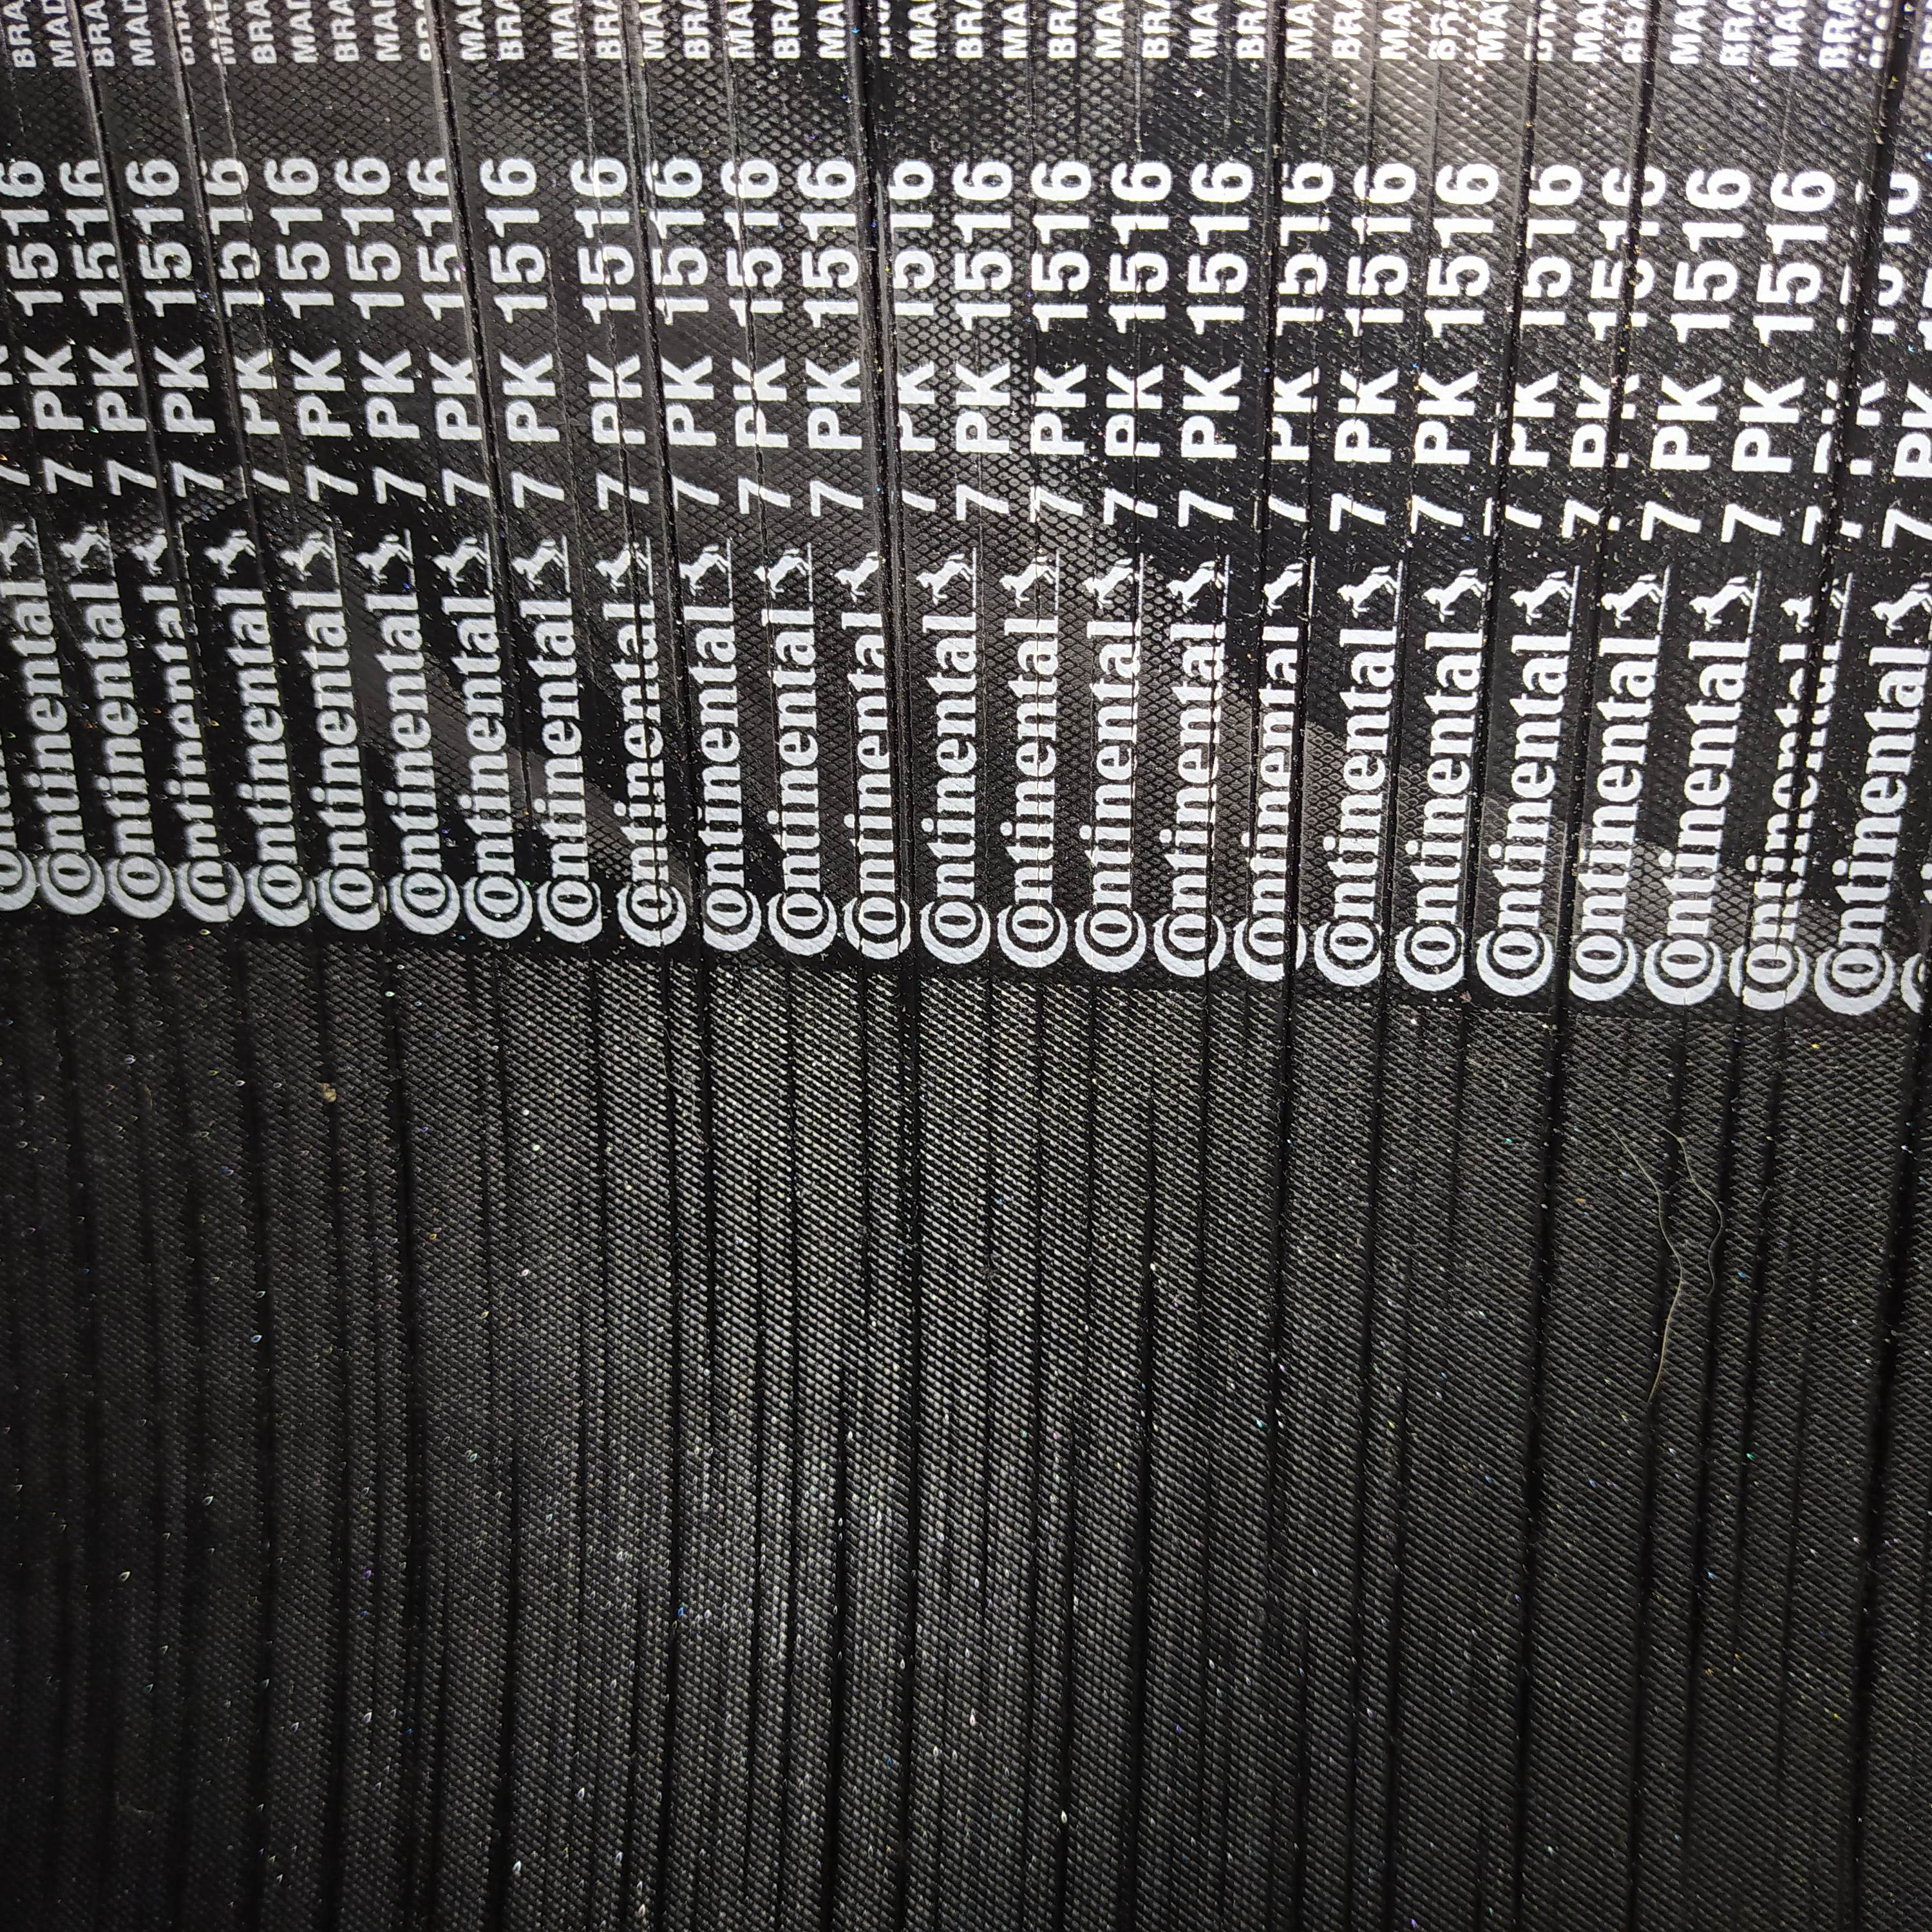friso grande: (1113, 1260, 1162, 1928), (1044, 1566, 1090, 1927), (1499, 1587, 1545, 1927), (886, 1541, 924, 1930), (1828, 1638, 1875, 1930), (810, 1599, 849, 1928), (1506, 1338, 1553, 1594), (1191, 985, 1221, 1385), (487, 1598, 524, 1920), (398, 1343, 435, 1658), (421, 2, 474, 212), (1435, 1030, 1476, 1293), (1366, 1665, 1405, 1927), (1260, 1054, 1299, 1311), (386, 1132, 430, 1357), (840, 7, 897, 179), (649, 1683, 688, 1923), (1520, 1039, 1582, 1189), (373, 938, 419, 1136), (1008, 1640, 1040, 1925), (1256, 1307, 1286, 1608), (156, 1727, 202, 1916), (973, 1408, 1000, 1736), (318, 1637, 349, 1920), (62, 1228, 111, 1398), (1631, 1332, 1675, 1522), (170, 1534, 212, 1729), (1670, 1683, 1709, 1893), (1854, 1346, 1907, 1497), (897, 1297, 929, 1546), (1343, 1384, 1387, 1562), (1072, 1085, 1100, 1361), (1621, 1686, 1652, 1930), (1617, 1511, 1660, 1693), (253, 1233, 280, 1522), (846, 182, 902, 310), (1272, 858, 1307, 1062), (324, 1440, 359, 1644), (1516, 1182, 1562, 1338), (610, 1727, 646, 1927), (460, 359, 517, 483), (1720, 1476, 1760, 1647), (1058, 1371, 1093, 1566), (423, 1658, 449, 1916), (455, 916, 492, 1100), (763, 1732, 798, 1925), (205, 280, 253, 421), (893, 1095, 927, 1295), (660, 1276, 694, 1476), (478, 1162, 502, 1433), (1338, 1564, 1373, 1752), (446, 223, 495, 356), (1537, 893, 1580, 1047), (1384, 1479, 1419, 1663), (64, 975, 88, 1237), (924, 1683, 950, 1925), (1346, 1224, 1387, 1382), (1451, 851, 1486, 1031), (485, 961, 515, 1171), (156, 7, 202, 142), (1674, 1530, 1713, 1684), (695, 1062, 729, 1238), (777, 1387, 809, 1573), (978, 1157, 1001, 1414), (329, 1223, 356, 1444), (180, 1407, 225, 1539), (1016, 1463, 1047, 1645), (1773, 759, 1803, 950), (131, 350, 179, 471), (1385, 1329, 1422, 1483), (244, 1690, 288, 1819), (1865, 1230, 1911, 1353), (182, 1251, 219, 1403), (665, 1476, 692, 1688), (1730, 1325, 1767, 1476), (1132, 1079, 1162, 1265), (828, 1415, 858, 1599), (1260, 7, 1283, 246), (701, 1235, 722, 1493), (1683, 1398, 1721, 1536), (1884, 1108, 1927, 1233), (1882, 2, 1927, 122), (658, 1123, 692, 1281), (580, 998, 617, 1139), (1198, 757, 1221, 985), (1854, 1497, 1890, 1644), (205, 11, 241, 156), (317, 1019, 341, 1226), (853, 1030, 881, 1210), (977, 957, 1001, 1162), (646, 853, 678, 1012), (584, 1136, 621, 1272), (1371, 847, 1405, 998), (895, 950, 929, 1100), (1741, 1182, 1775, 1329), (1553, 764, 1591, 897), (106, 225, 147, 345), (856, 306, 897, 425), (186, 147, 223, 276), (745, 1304, 771, 1484), (1640, 1214, 1679, 1336), (610, 16, 651, 133), (1693, 1184, 1736, 1295), (232, 426, 267, 559), (249, 1573, 290, 1688), (1024, 1269, 1047, 1465), (1355, 1109, 1392, 1230), (1361, 993, 1398, 1113), (732, 1764, 759, 1930), (1026, 1086, 1049, 1276), (235, 1813, 272, 1930), (1753, 1076, 1792, 1185), (69, 9, 110, 113), (734, 295, 768, 421), (232, 1007, 267, 1125), (177, 1143, 212, 1260), (628, 1564, 653, 1730), (499, 1444, 524, 1608), (594, 1269, 614, 1477), (310, 879, 338, 1023), (621, 540, 648, 692), (692, 909, 717, 1069), (1868, 124, 1904, 235), (1658, 1104, 1691, 1221), (248, 1490, 290, 1582), (1709, 1070, 1741, 1192), (150, 476, 186, 586), (1336, 1750, 1357, 1930), (777, 1575, 800, 1741), (786, 1224, 809, 1389), (244, 1125, 278, 1237), (85, 110, 117, 226), (1394, 1208, 1424, 1330), (660, 1008, 690, 1129), (481, 490, 517, 591), (671, 653, 706, 754), (1456, 757, 1493, 853), (632, 246, 665, 350), (867, 432, 901, 536), (1695, 1293, 1727, 1403), (1276, 757, 1307, 865), (1628, 99, 1658, 212), (621, 140, 655, 241), (1851, 239, 1888, 329), (782, 1086, 805, 1231), (1734, 878, 1760, 1003), (888, 817, 913, 952), (1826, 423, 1854, 540), (1661, 1021, 1700, 1102), (1371, 763, 1408, 847), (777, 962, 801, 1090), (1633, 0, 1665, 99), (1835, 333, 1868, 426), (849, 771, 870, 918), (759, 683, 791, 780), (1610, 297, 1638, 405), (1794, 628, 1822, 736), (1520, 5, 1546, 120), (663, 534, 688, 655), (775, 766, 798, 895), (717, 7, 740, 136), (1771, 973, 1798, 1085), (1083, 961, 1106, 1086), (748, 1479, 766, 1642), (1812, 538, 1842, 633), (1261, 249, 1283, 384), (748, 1141, 766, 1302), (232, 922, 262, 1016), (755, 586, 784, 685), (510, 757, 548, 828), (1028, 964, 1049, 1092), (729, 205, 757, 301), (1299, 594, 1315, 763), (1621, 212, 1652, 295), (582, 929, 616, 1005), (1253, 534, 1267, 715), (651, 428, 676, 529), (646, 759, 671, 856), (1122, 761, 1139, 892), (1578, 651, 1606, 732), (851, 918, 870, 1035), (747, 1631, 763, 1771), (886, 633, 908, 736), (1484, 527, 1511, 609), (754, 492, 777, 586), (1502, 294, 1525, 386), (1582, 571, 1608, 651), (1718, 998, 1743, 1079), (725, 140, 754, 211), (632, 708, 663, 770), (1307, 442, 1320, 602), (646, 350, 672, 423), (1601, 403, 1622, 494), (1904, 1049, 1932, 1116), (879, 543, 901, 632), (1260, 384, 1272, 534), (1249, 709, 1260, 885), (1086, 766, 1104, 870), (683, 761, 702, 851), (1490, 453, 1511, 533), (1520, 122, 1539, 207), (1499, 380, 1518, 464), (1514, 202, 1532, 292), (747, 419, 768, 492), (1598, 492, 1617, 570), (1477, 667, 1497, 743), (1033, 761, 1044, 895), (890, 763, 911, 824), (1483, 605, 1502, 669), (1575, 729, 1598, 780), (892, 740, 913, 780)
friso pequeno: (554, 1458, 594, 1826), (934, 1269, 964, 1660), (1762, 1629, 1806, 1854), (1192, 1472, 1219, 1842), (1286, 1599, 1316, 1925), (538, 253, 579, 418), (1210, 1652, 1235, 1918), (1401, 1000, 1426, 1210), (568, 2, 605, 142), (566, 554, 605, 676), (1776, 1495, 1810, 1631), (559, 418, 593, 554), (366, 1550, 386, 1782), (1790, 1263, 1828, 1384), (570, 1302, 594, 1474), (580, 143, 614, 264), (598, 269, 626, 403), (1787, 1373, 1815, 1500), (359, 1049, 380, 1217), (609, 405, 637, 531), (370, 1214, 389, 1391), (370, 1380, 389, 1550), (1260, 1755, 1277, 1920), (833, 1304, 856, 1419), (860, 1208, 874, 1392), (1072, 2, 1086, 165), (1431, 4, 1451, 117), (1357, 170, 1380, 244), (1355, 249, 1369, 349), (1366, 58, 1378, 168), (1430, 124, 1440, 207)
